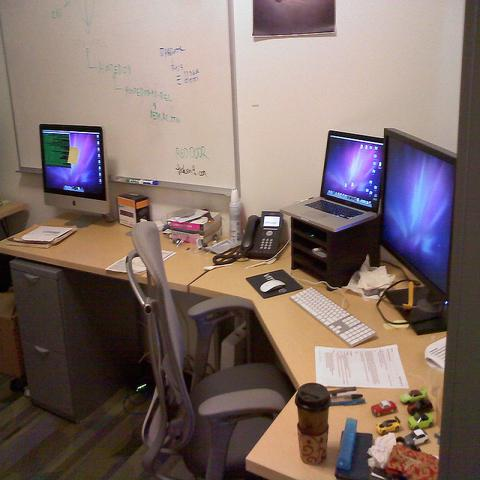car: (399, 387, 429, 405), (407, 412, 433, 431)
